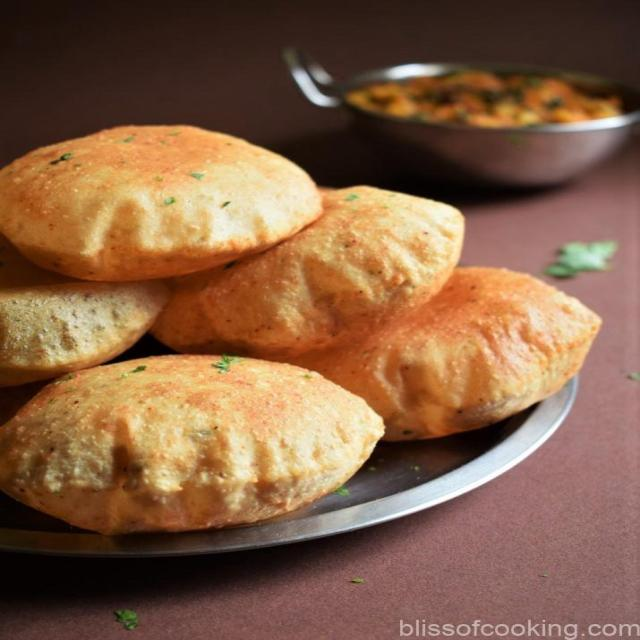puri: (14, 102, 345, 556)
